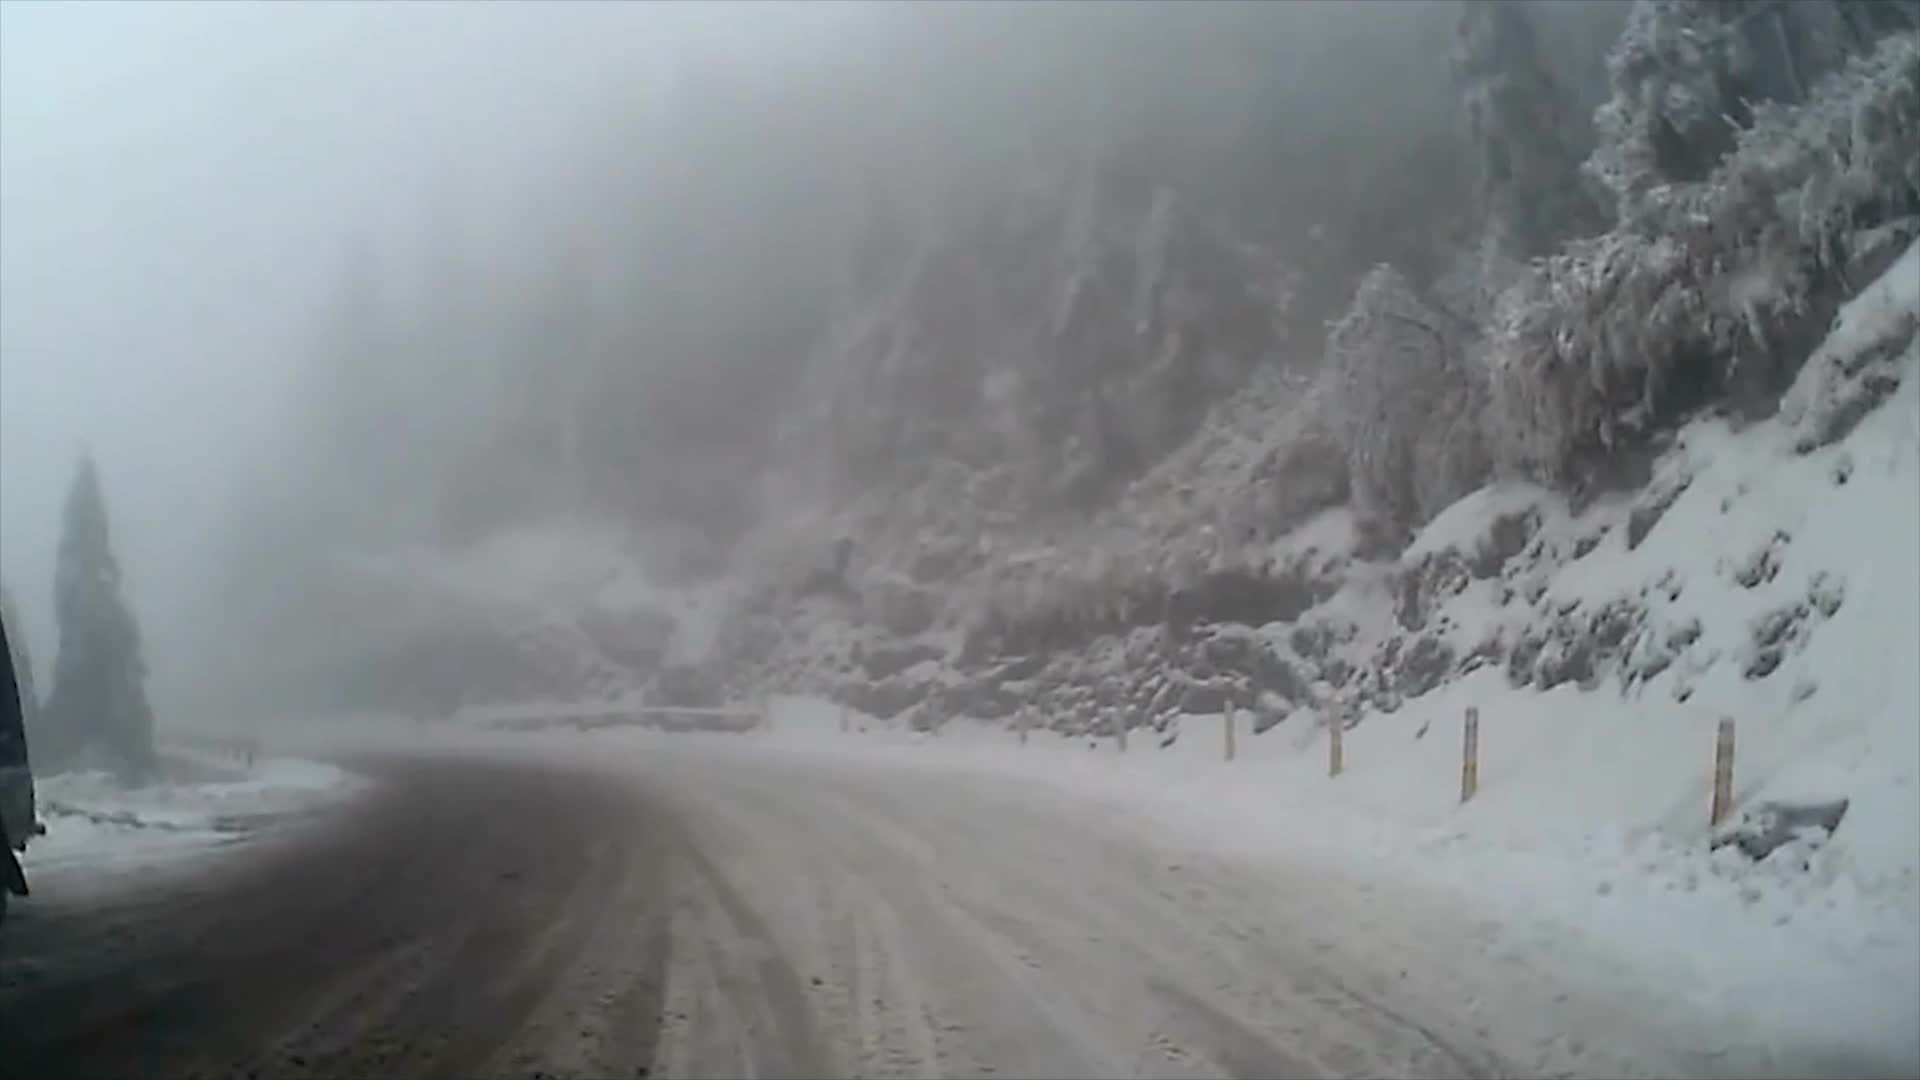vehicle: (0, 616, 47, 918)
